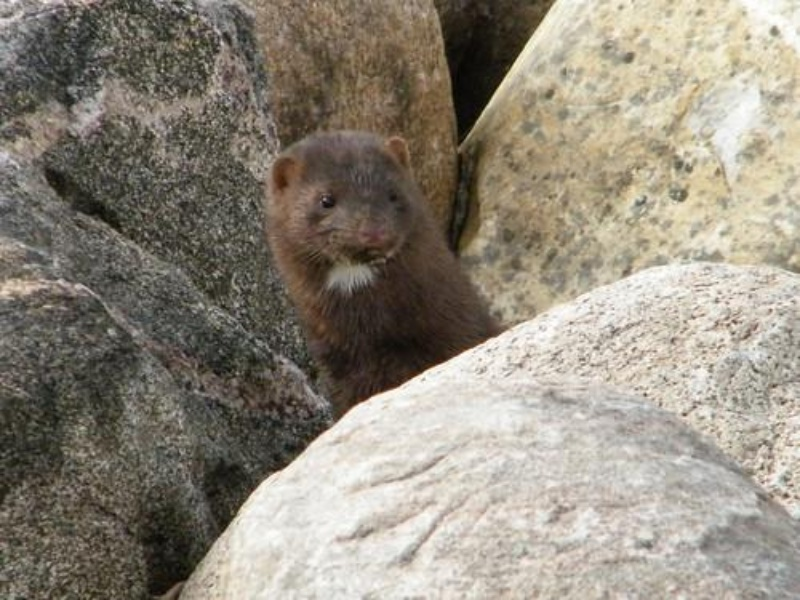minkish: (263, 123, 511, 425)
